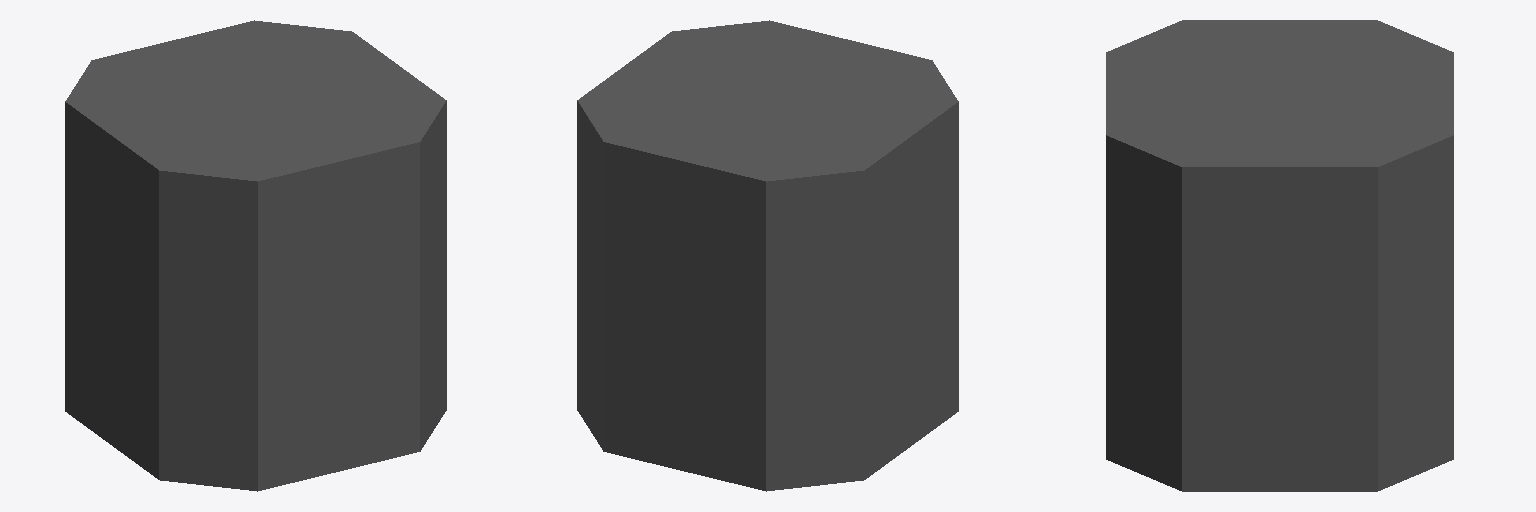
URDF robot description (everybot_airbot):
<?xml version="1.0" ?>
<robot name="everybot_airbot"
  xmlns:xacro="http://ros.org/wiki/xacro">
  <!-- <xacro:include filename="$(find everybot_description)/urdf/common_properties.urdf"/> -->

  <!-- Init colour -->
  <material name="black">
      <color rgba="0.0 0.0 0.0 1.0"/>
  </material>

  <material name="dark">
    <color rgba="0.3 0.3 0.3 1.0"/>
  </material>

  <material name="light_black">
    <color rgba="0.4 0.4 0.4 1.0"/>
  </material>

  <material name="blue">
    <color rgba="0.0 0.0 0.8 1.0"/>
  </material>

  <material name="green">
    <color rgba="0.0 0.8 0.0 1.0"/>
  </material>

  <material name="grey">
    <color rgba="0.5 0.5 0.5 1.0"/>
  </material>

  <material name="orange">
    <color rgba="1.0 0.4235 0.0392 1.0"/>
  </material>

  <material name="brown">
    <color rgba="0.8706 0.8118 0.7647 1.0"/>
  </material>

  <material name="red">
    <color rgba="0.8 0.0 0.0 1.0"/>
  </material>

  <material name="white">
    <color rgba="1.0 1.0 1.0 1.0"/>
  </material>

  <link name="base_footprint"/>

  <joint name="base_joint" type="fixed">
    <parent link="base_footprint"/>
    <child link="base_link"/>
    <origin xyz="0.0 0.0 0.010" rpy="0 0 0"/>
  </joint>

  <link name="base_link">
    <visual>
      <origin xyz="-0.032 0 0.0" rpy="0 0 0"/>
      <geometry>
        <mesh filename="package://everybot_gazebo/models/everybot_common/meshes/airbot_base.dae" scale="0.001 0.001 0.001"/>
      </geometry>
      <material name="light_black"/>
    </visual>

    <collision>
      <origin xyz="-0.032 0 0.070" rpy="0 0 0"/>
      <geometry>
        <box size="0.140 0.140 0.143"/>
      </geometry>
    </collision>

    <inertial>
      <origin xyz="0 0 0" rpy="0 0 0"/>
      <mass value="8.2573504e-01"/>
      <inertia ixx="2.2124416e-03" ixy="-1.2294101e-05" ixz="3.4938785e-05" iyy="2.1193702e-03" iyz="-5.0120904e-06" izz="2.0064271e-03" />
    </inertial>
  </link>

  <joint name="wheel_left_joint" type="continuous">
    <parent link="base_link"/>
    <child link="wheel_left_link"/>
    <origin xyz="0.0 0.08 0.023" rpy="-1.57 0 0"/>
    <axis xyz="0 0 1"/>
  </joint>

  <link name="wheel_left_link">
    <visual>
      <origin xyz="0 0 0" rpy="1.57 0 0"/>
      <geometry>
        <mesh filename="package://everybot_gazebo/models/everybot_common/meshes/tire.dae" scale="0.001 0.001 0.001"/>
      </geometry>
      <material name="dark"/>
    </visual>

    <collision>
      <origin xyz="0 0 0" rpy="0 0 0"/>
      <geometry>
        <cylinder length="0.018" radius="0.033"/>
      </geometry>
    </collision>

    <inertial>
      <origin xyz="0 0 0" />
      <mass value="2.8498940e-02" />
      <inertia ixx="1.1175580e-05" ixy="-4.2369783e-11" ixz="-5.9381719e-09" iyy="1.1192413e-05" iyz="-1.4400107e-11" izz="2.0712558e-05" />
    </inertial>
  </link>

  <joint name="wheel_right_joint" type="continuous">
    <parent link="base_link"/>
    <child link="wheel_right_link"/>
    <origin xyz="0.0 -0.080 0.023" rpy="-1.57 0 0"/>
    <axis xyz="0 0 1"/>
  </joint>

  <link name="wheel_right_link">
    <visual>
      <origin xyz="0 0 0" rpy="1.57 0 0"/>
      <geometry>
        <mesh filename="package://everybot_gazebo/models/everybot_common/meshes/tire.dae" scale="0.001 0.001 0.001"/>
      </geometry>
      <material name="dark"/>
    </visual>

    <collision>
      <origin xyz="0 0 0" rpy="0 0 0"/>
      <geometry>
        <cylinder length="0.018" radius="0.033"/>
      </geometry>
    </collision>

    <inertial>
      <origin xyz="0 0 0" />
      <mass value="2.8498940e-02" />
      <inertia ixx="1.1175580e-05" ixy="-4.2369783e-11" ixz="-5.9381719e-09" iyy="1.1192413e-05" iyz="-1.4400107e-11" izz="2.0712558e-05" />
    </inertial>
  </link>

  <joint name="caster_back_joint" type="fixed">
    <parent link="base_link"/>
    <child link="caster_back_link"/>
    <origin xyz="-0.081 0 -0.004" rpy="-1.57 0 0"/>
  </joint>

  <link name="caster_back_link">
    <collision>
      <origin xyz="0 0.001 0" rpy="0 0 0"/>
      <geometry>
        <box size="0.030 0.009 0.020"/>
      </geometry>
    </collision>

    <inertial>
      <origin xyz="0 0 0" />
      <mass value="0.005" />
      <inertia ixx="0.001" ixy="0.0" ixz="0.0" iyy="0.001" iyz="0.0" izz="0.001" />
    </inertial>
  </link>

  <joint name="imu_joint" type="fixed">
    <parent link="base_link"/>
    <child link="imu_link"/>
    <origin xyz="-0.032 0 0.068" rpy="0 0 0"/>
  </joint>

  <link name="imu_link"/>

  <joint name="scan_joint" type="fixed">
    <parent link="base_link"/>
    <child link="base_scan"/>
    <origin xyz="-0.032 0 0.172" rpy="0 0 0"/>
  </joint>

  <link name="base_scan">
    <visual>
      <origin xyz="0 0 0.0" rpy="0 0 0"/>
      <geometry>
        <mesh filename="package://everybot_gazebo/models/everybot_common/meshes/lds.dae" scale="0.001 0.001 0.001"/>
      </geometry>
      <material name="dark"/>
    </visual>

    <collision>
      <origin xyz="0.015 0 -0.0065" rpy="0 0 0"/>
      <geometry>
        <cylinder length="0.0315" radius="0.055"/>
      </geometry>
    </collision>

    <inertial>
      <mass value="0.114" />
      <origin xyz="0 0 0" />
      <inertia ixx="0.001" ixy="0.0" ixz="0.0" iyy="0.001" iyz="0.0" izz="0.001" />
    </inertial>
  </link>

</robot>

--- Facts derived from the render (not from the file) ---
Views: 3 orthographic renders of the robot side by side, from view 1: azimuth 30°, elevation 25°; view 2: azimuth 150°, elevation 25°; view 3: azimuth 270°, elevation 25°.
Model everybot_airbot with 7 links and 6 joints (2 continuous, 4 fixed), rooted at base_footprint, posed every joint at zero.
Links seen in each view (by area): view 1: base_link; view 2: base_link; view 3: base_link.
Link boxes in pixels (x1,y1,x2,y2): base_link: (65,20,446,491); base_link: (577,20,958,491); base_link: (1106,20,1453,491).
Bounding box of the posed robot: 0.1369 × 0.1369 × 0.1422 m (x, y, z).
Meshes: 3 distinct files referenced, 1 mesh visuals loaded (1 Collada DAE); not drawn: 3 (reference not matched to a file when rendering).